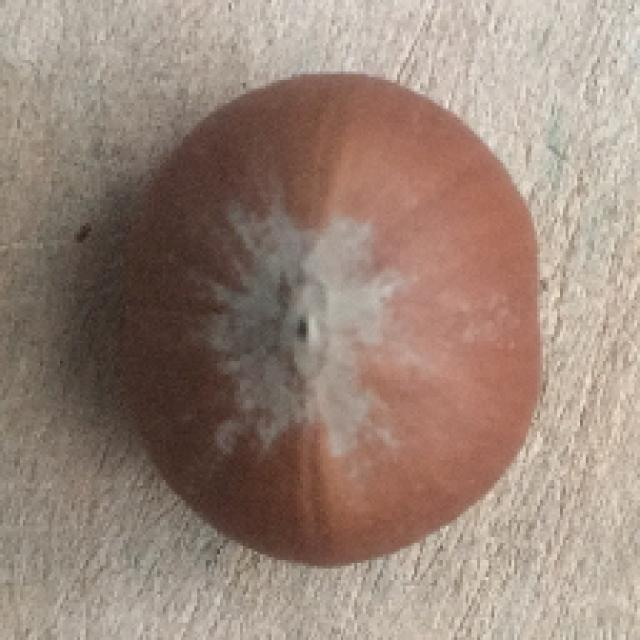qualityHazelnut: (119, 72, 545, 567)
